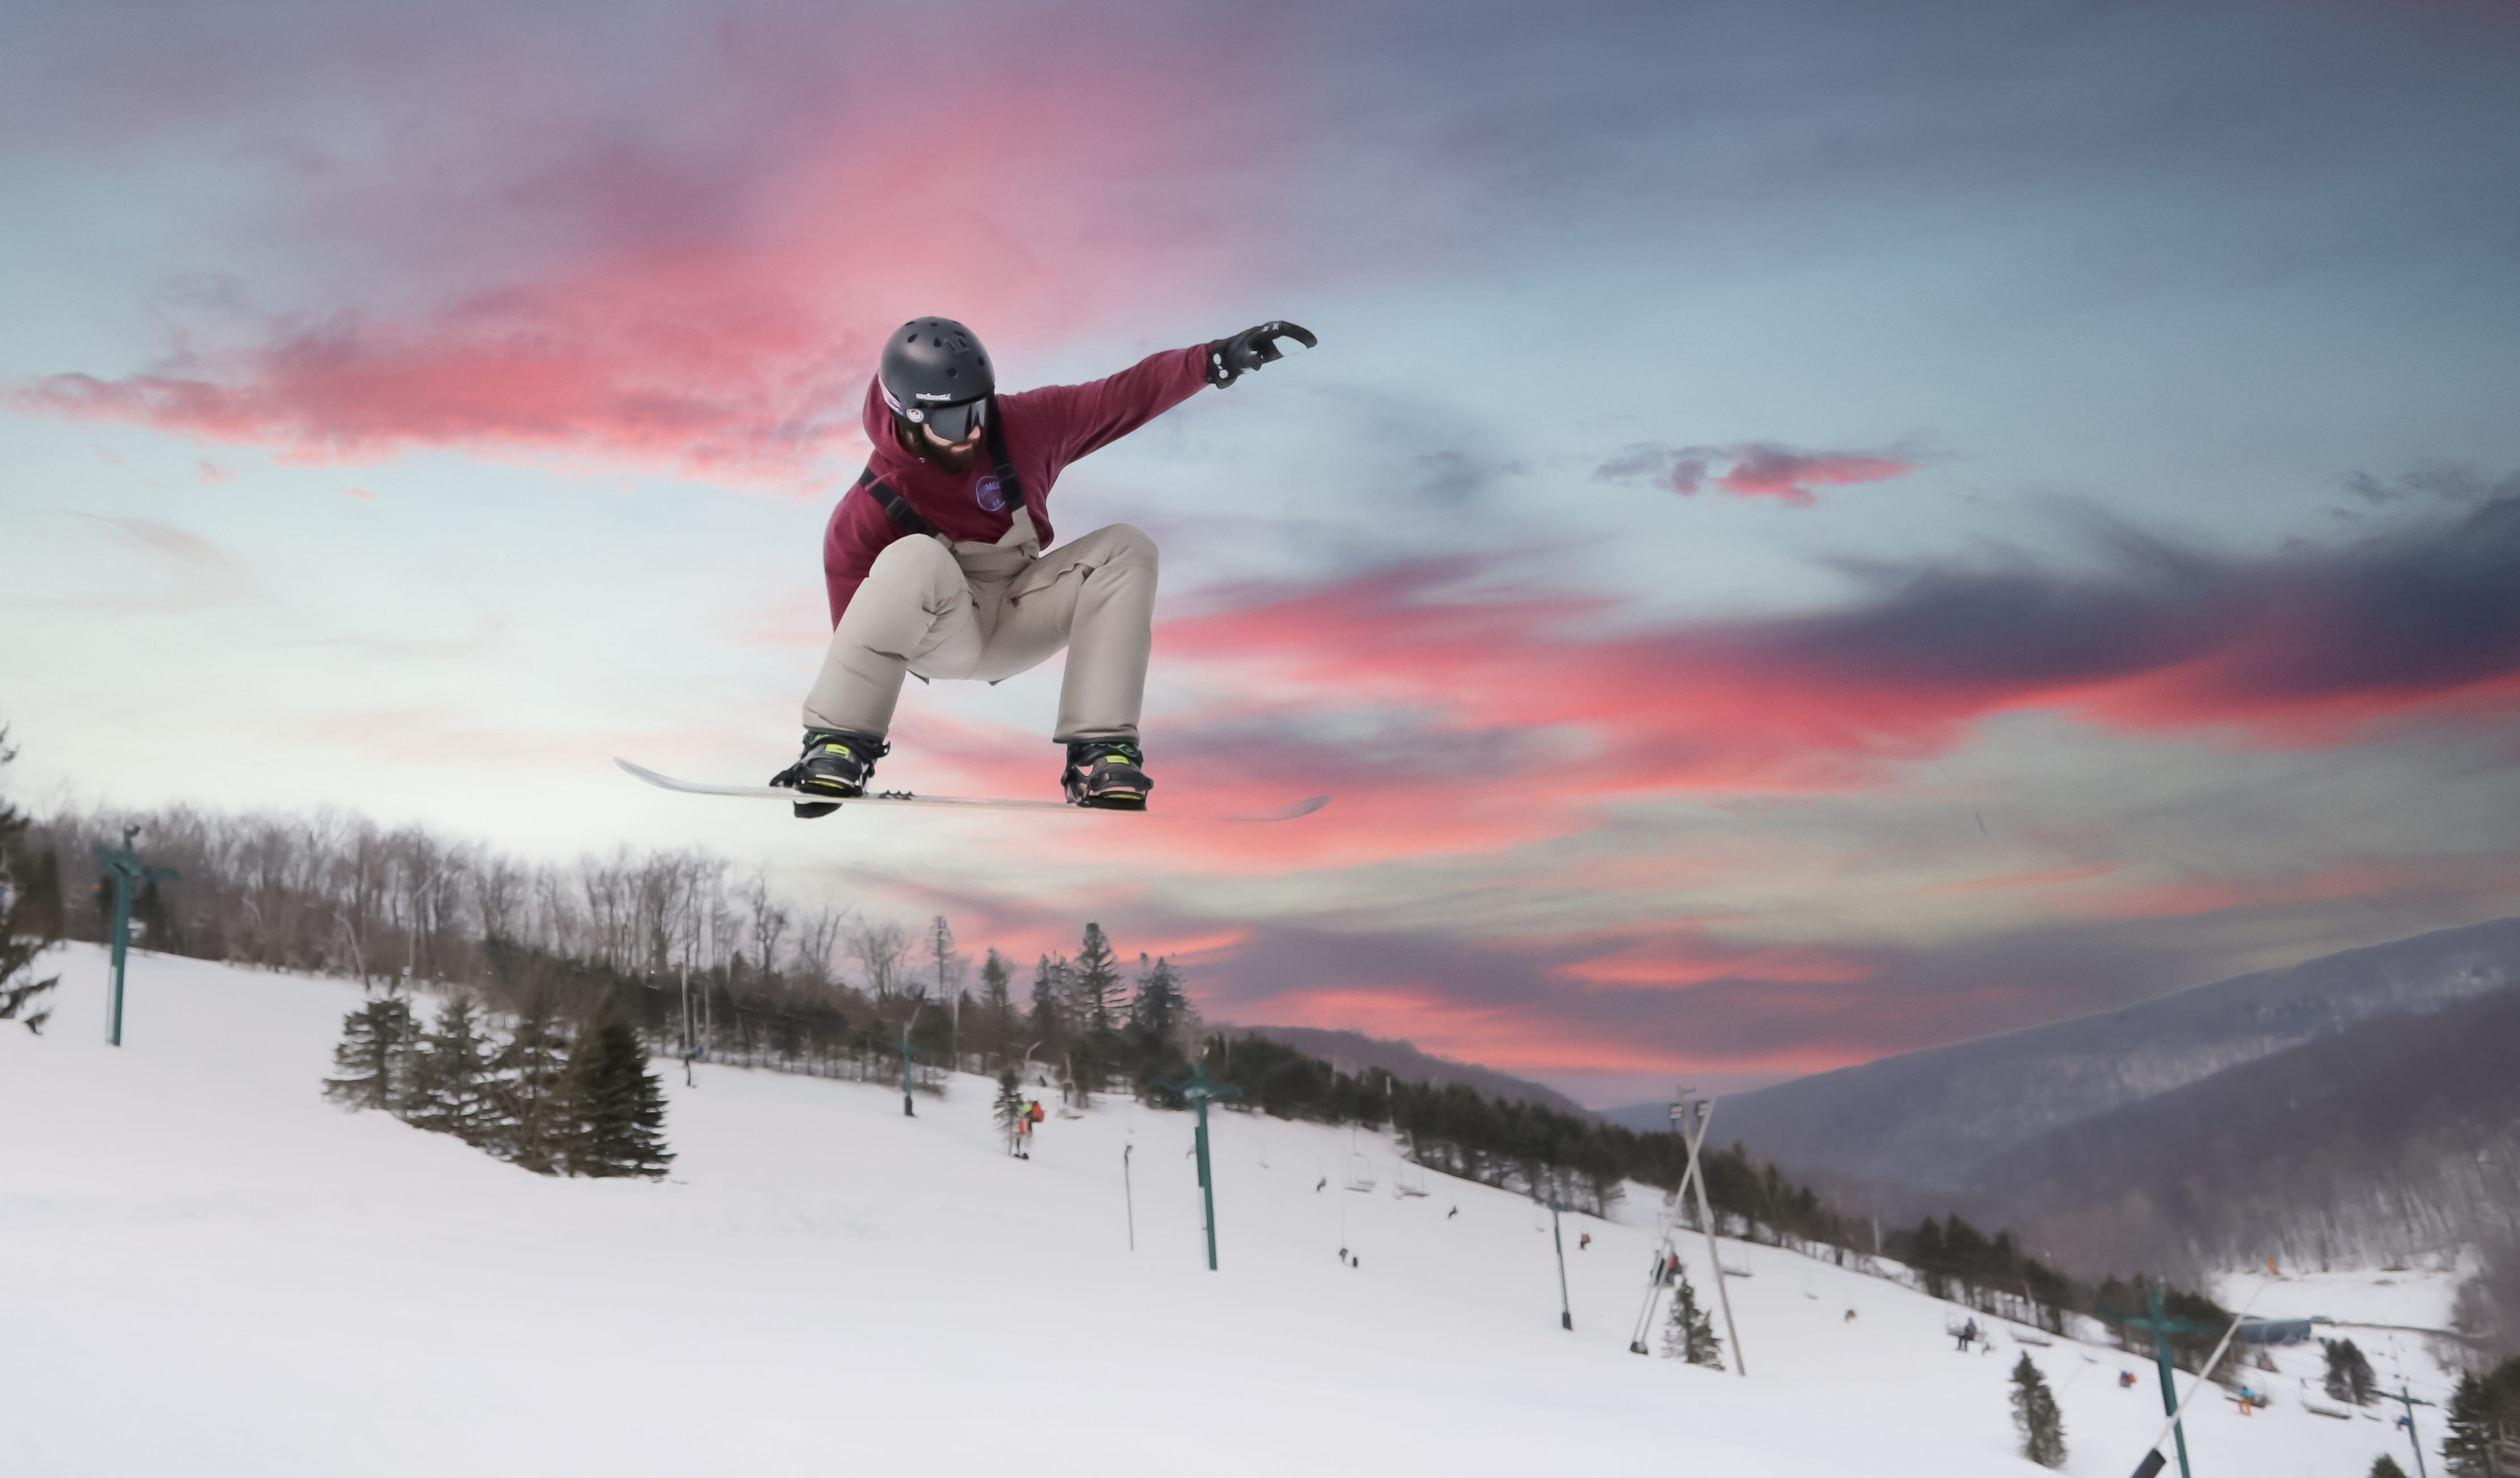snowboarder: (614, 317, 1331, 822)
